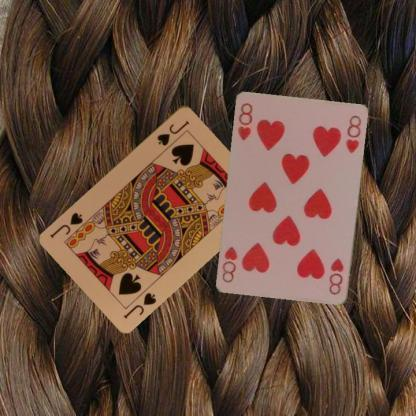8h: (326, 256, 346, 296), (235, 101, 254, 142)
Js: (120, 289, 158, 320), (154, 117, 191, 147)
